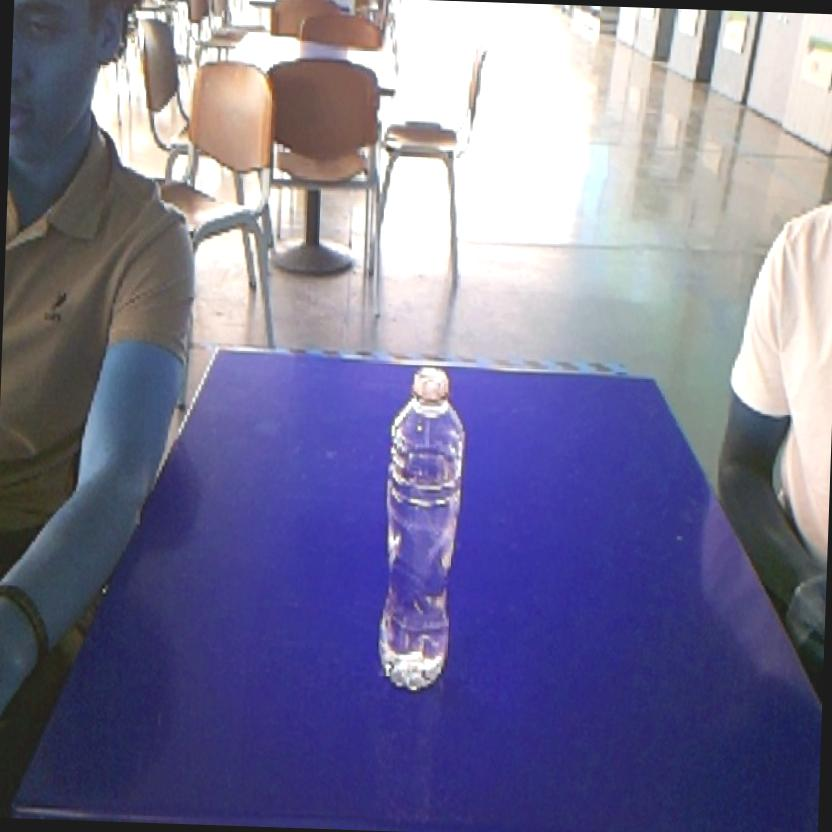no_cap: (370, 358, 474, 698)
